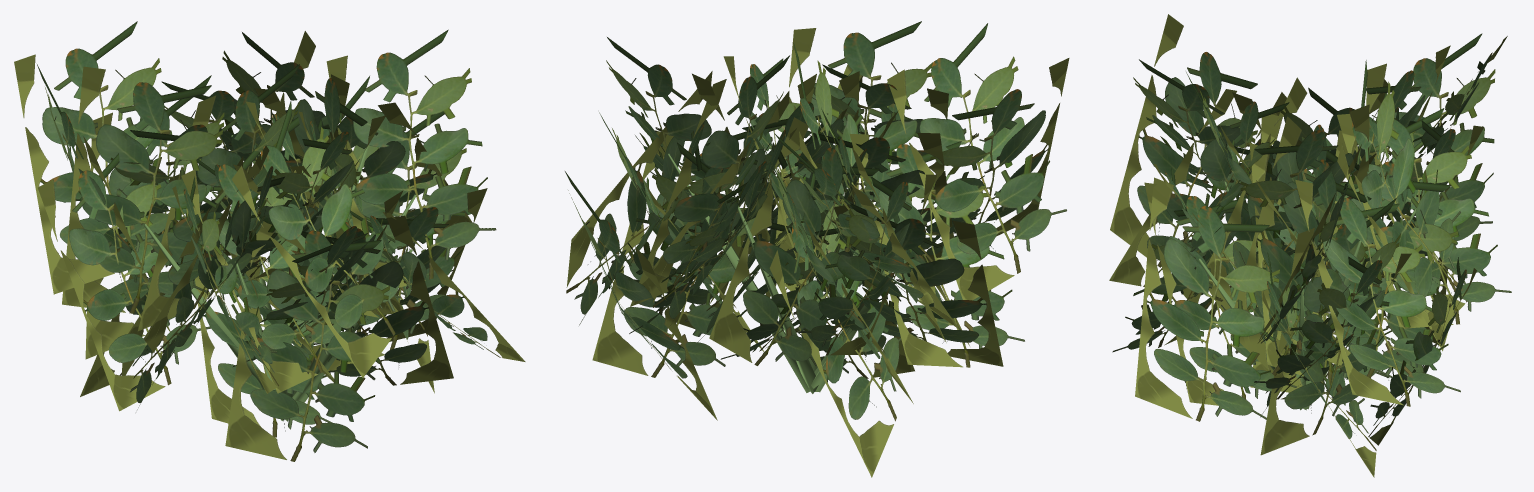
File: bush-kit.mobile.glb
3 views of the same model, side by side, from view 1: azimuth 30°, elevation 25°; view 2: azimuth 150°, elevation 25°; view 3: azimuth 270°, elevation 25° (orthographic). The views are drawn at different scales.
Visible parts, largest first — view 1: SA_G04_MESH_61, SA_G04_MESH_63, SA_G04_MESH_62, SA_G04_MESH_60; view 2: SA_G04_MESH_63, SA_G04_MESH_61, SA_G04_MESH_62, SA_G04_MESH_60; view 3: SA_G04_MESH_61, SA_G04_MESH_63, SA_G04_MESH_62, SA_G04_MESH_60.
Part boxes in pixels (x1,y1,x2,y2): SA_G04_MESH_61: (37,29,525,461); SA_G04_MESH_63: (14,21,472,411); SA_G04_MESH_62: (144,145,412,420); SA_G04_MESH_60: (231,135,416,421); SA_G04_MESH_63: (566,21,1069,477); SA_G04_MESH_61: (565,23,1066,420); SA_G04_MESH_62: (667,153,892,392); SA_G04_MESH_60: (691,170,950,393); SA_G04_MESH_61: (1112,33,1511,477); SA_G04_MESH_63: (1109,14,1507,406); SA_G04_MESH_62: (1198,240,1361,410); SA_G04_MESH_60: (1223,180,1420,410).
Bounding box in the file's own units: 1.07 × 0.968 × 0.974.
Materials: 2 (1 with a texture image).
